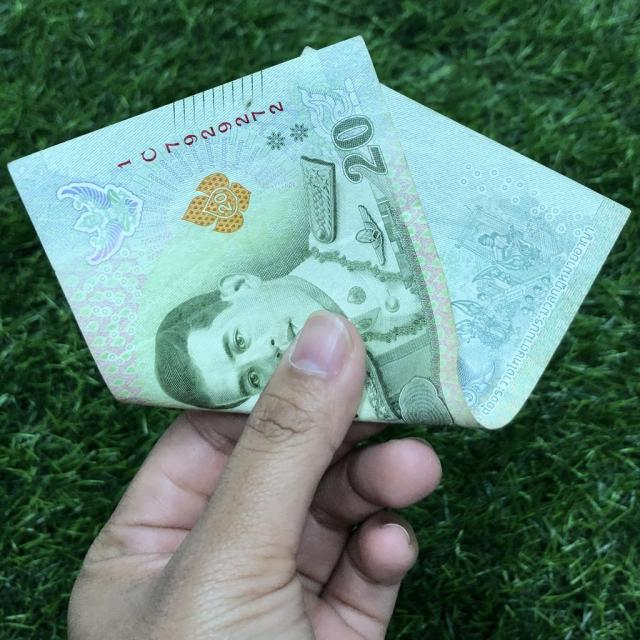THAI20: (8, 36, 631, 433)
